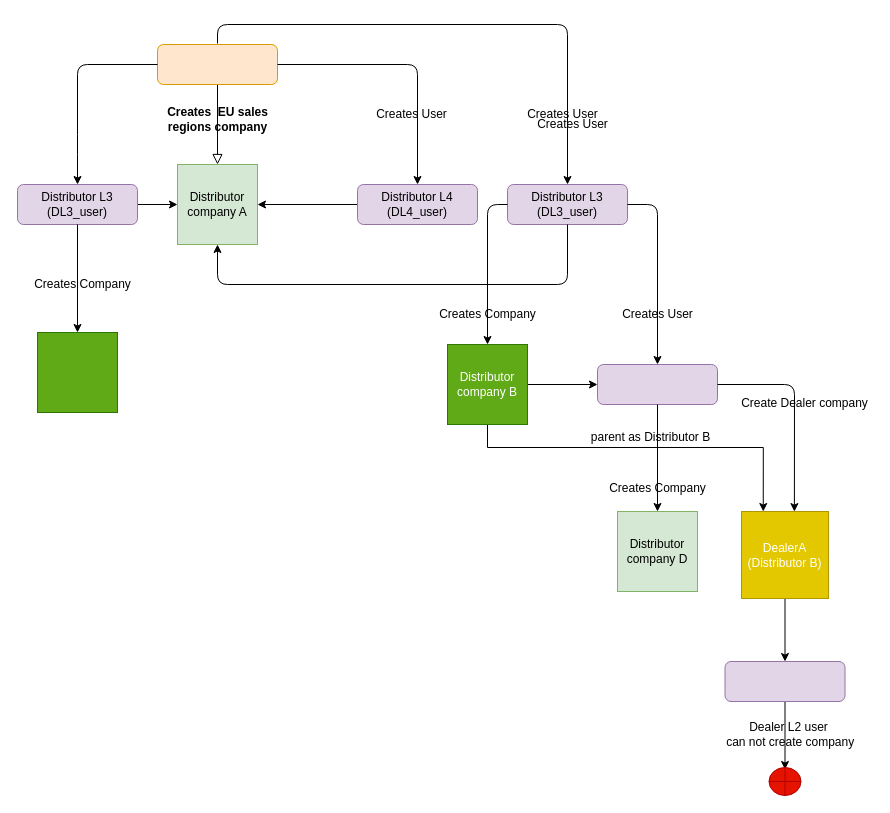
The diagram is 890 pixels wide and 813 high, and some of its shapes have lost their labels. The centre of each missing label's shape, as x and y in pixels:
DealerA_user: the point at 784,681
Distributor company C: the point at 77,372
Distributor L3 (DL3_user_child): the point at 657,384
System Admin L4: the point at 217,64
